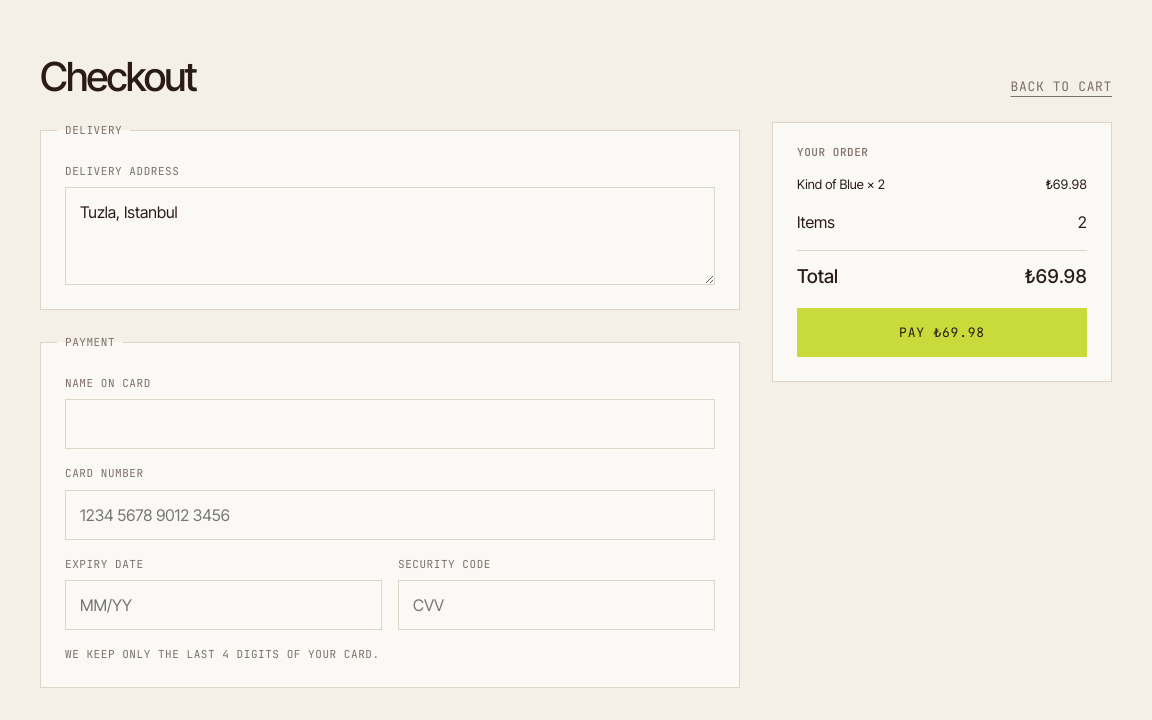
Test: CheckoutPage › shows the out of stock message and keeps the cart
The image size is (1152, 720).
Expected: the text "Kind of Blue × 2" is shown, x1=797 y1=174 x2=885 y2=194
Type "Egemen Eser" into the field labelled "Name on card" at (390, 424), box x1=65 y1=399 x2=715 y2=449
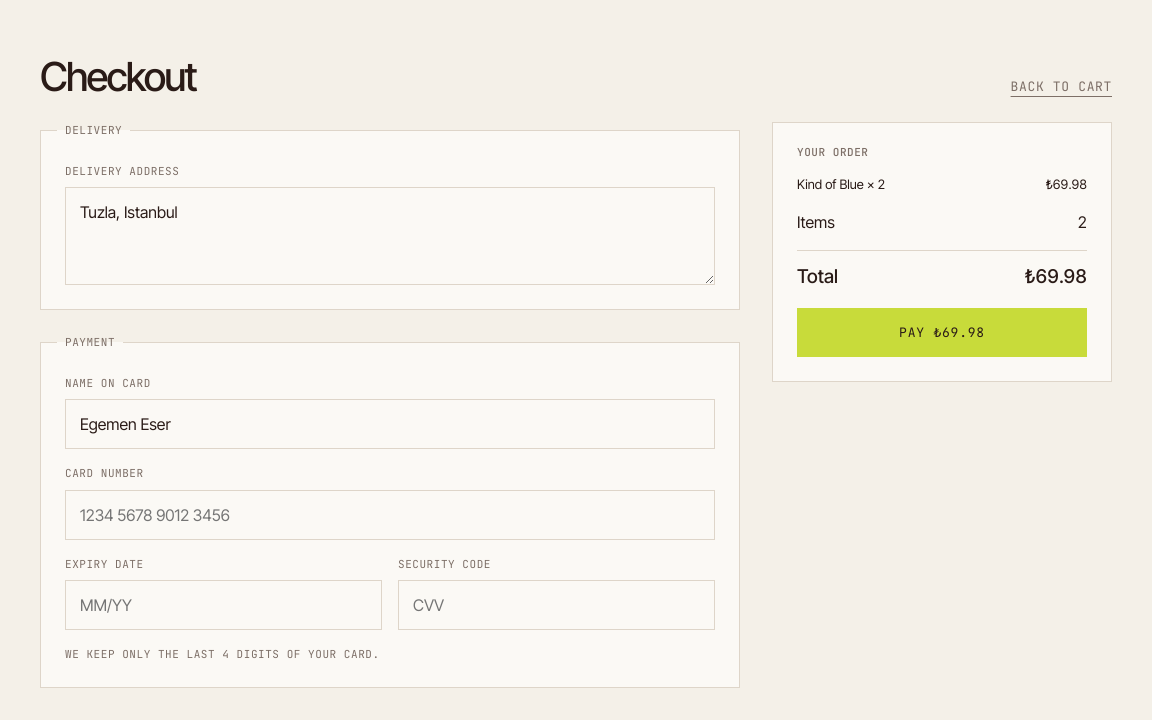
Type "4111111111111111" into the field labelled "Card number" at (390, 514), box x1=65 y1=490 x2=715 y2=540
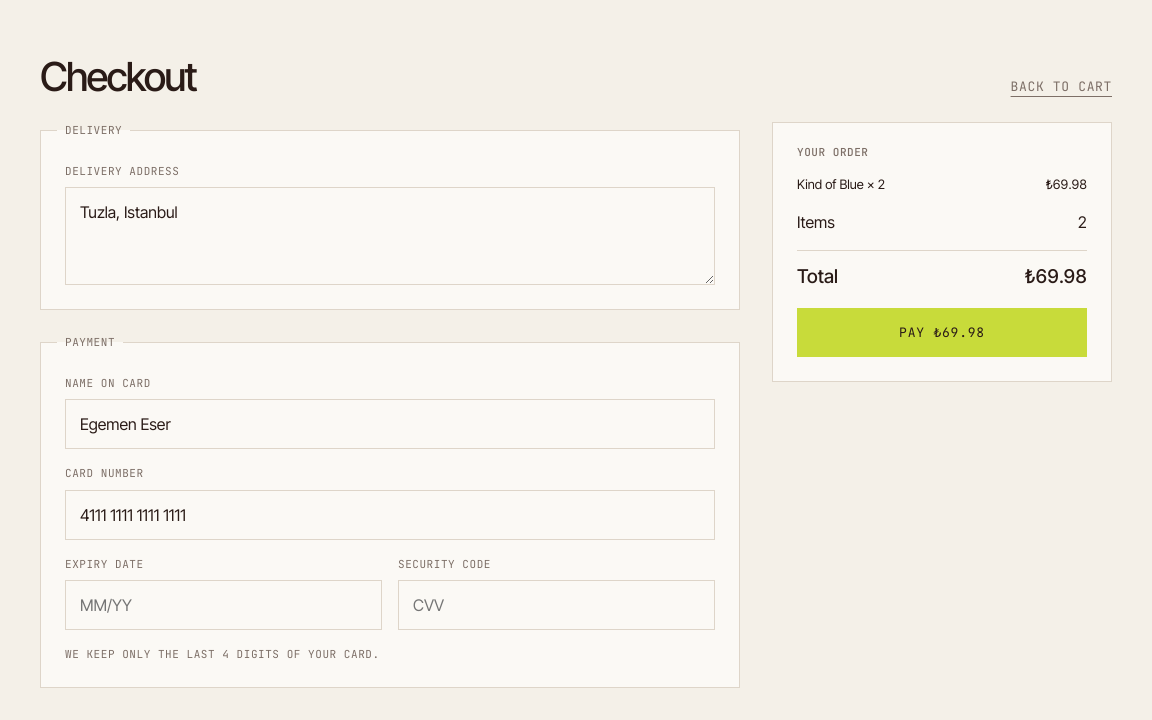
Type "1230" into the field labelled "Expiry date" at (224, 605), box x1=65 y1=580 x2=382 y2=630
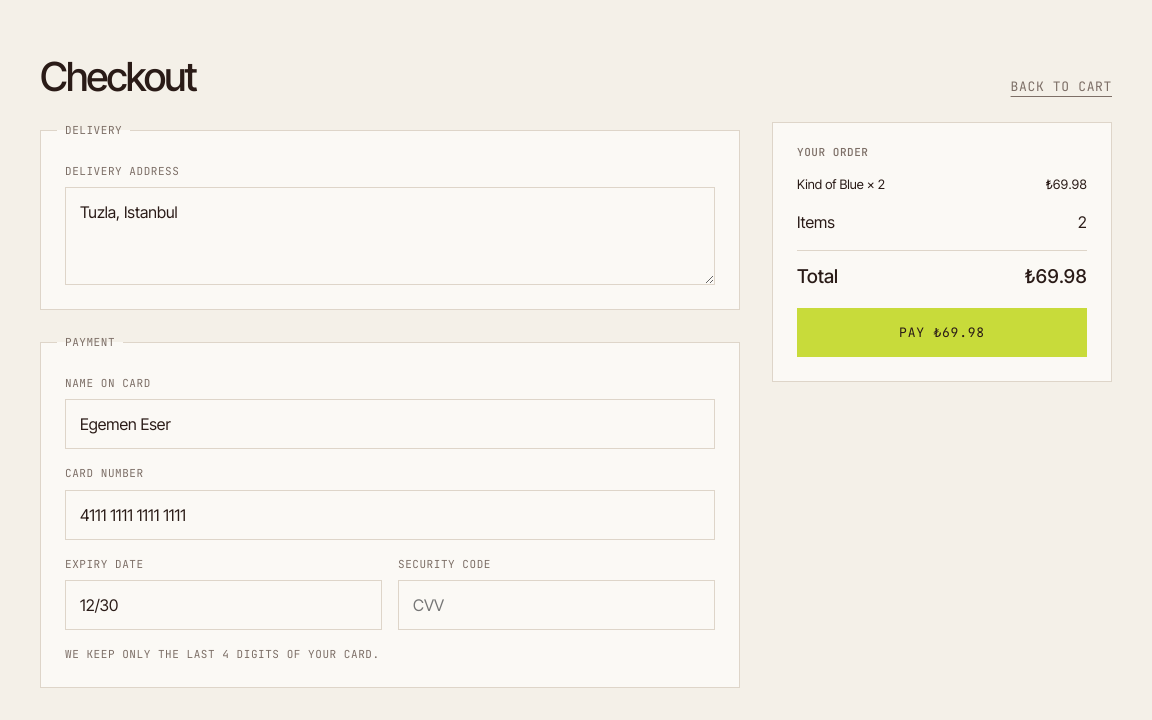
Type "123" into the field labelled "Security code" at (556, 605), box x1=398 y1=580 x2=715 y2=630
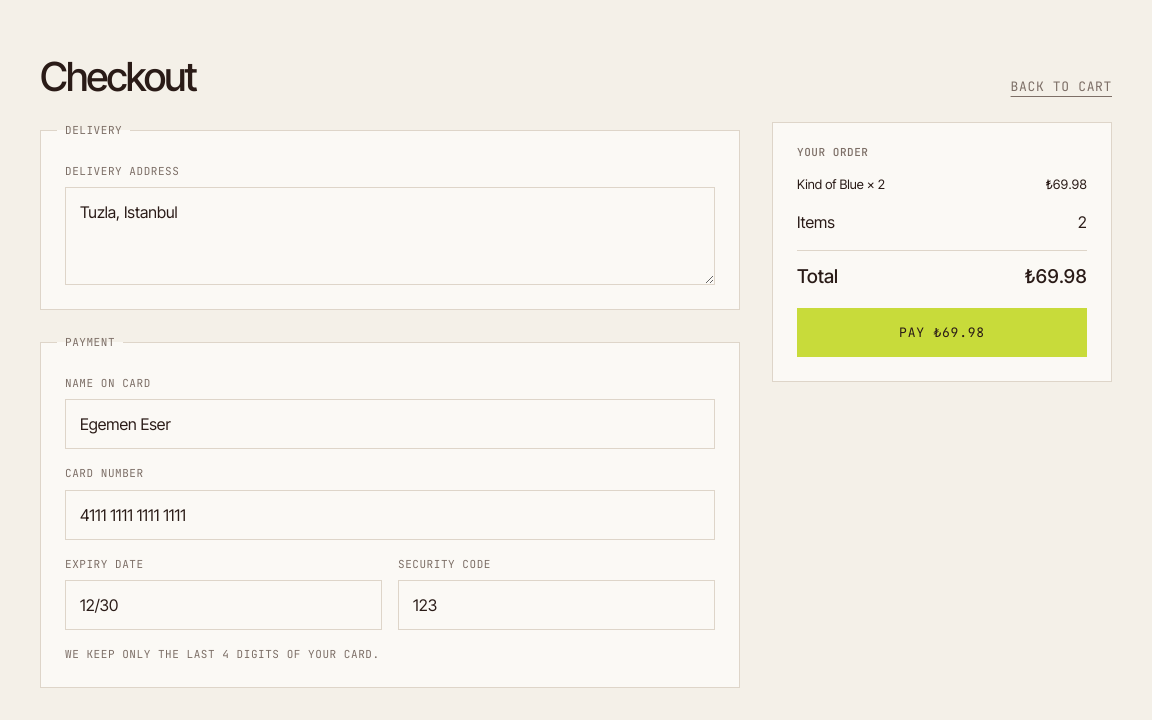
Click the button "Pay ₺69.98" at (942, 332), box x1=797 y1=308 x2=1087 y2=357
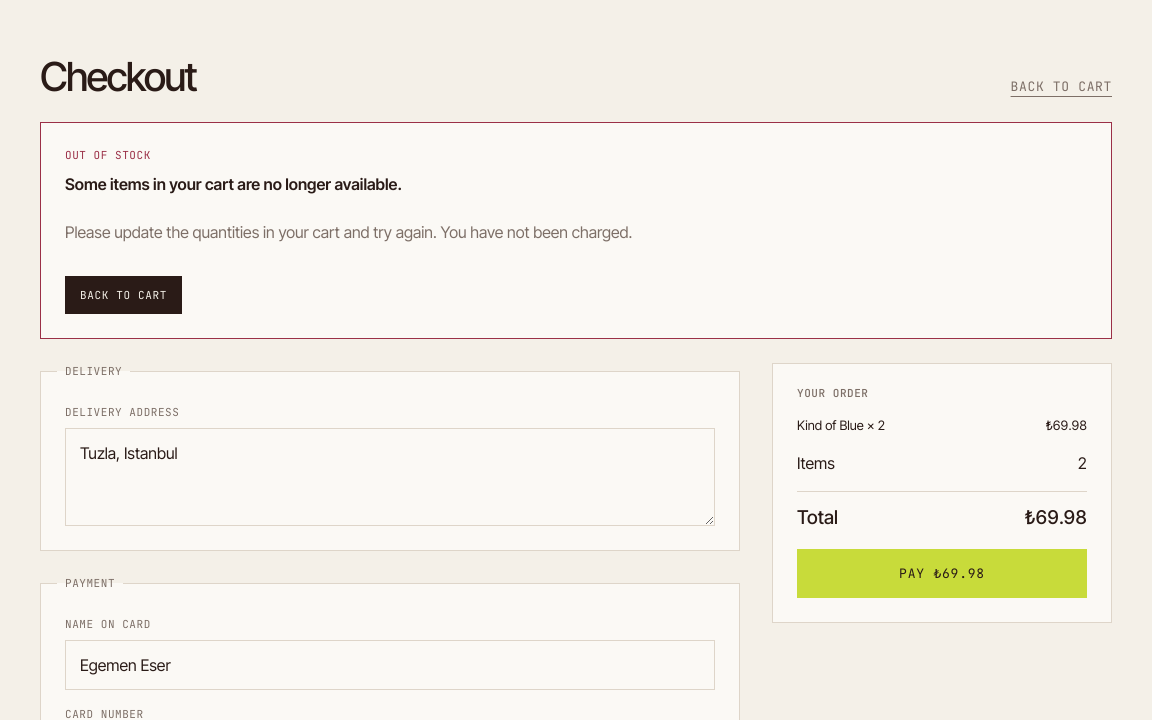
Expected: the text "Some items in your cart are no longer available." is shown, x1=65 y1=172 x2=402 y2=196
